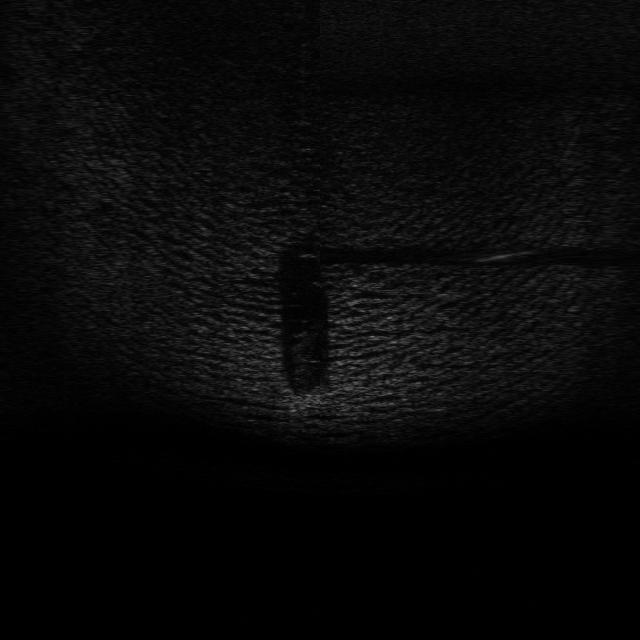cube: (288, 383, 337, 420)
